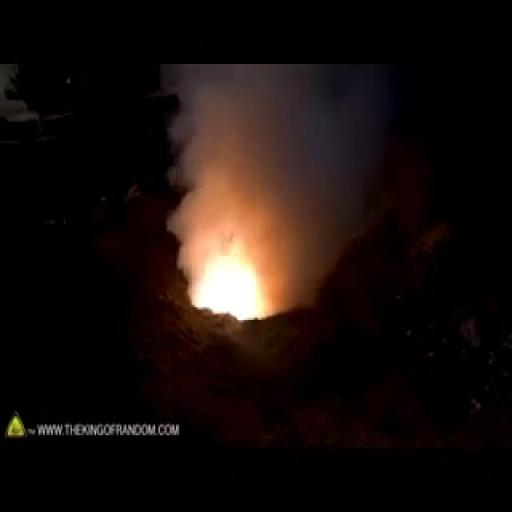smoke: (177, 188, 327, 366)
